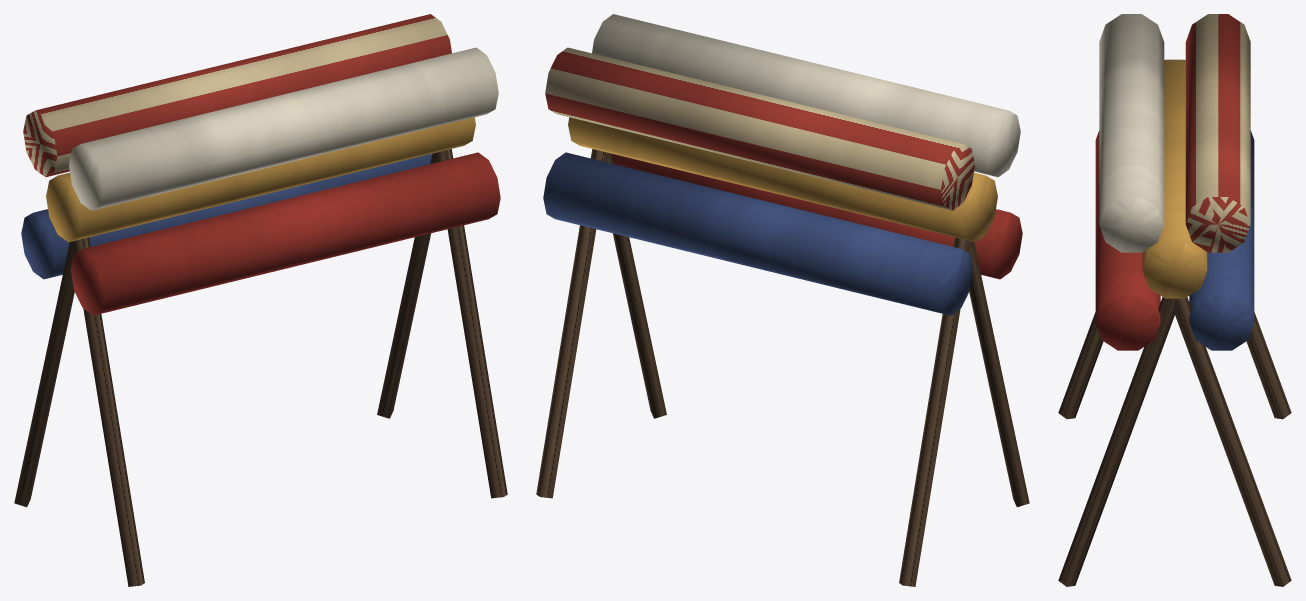
File: Cloth_Rolls_1.gltf
3 renders of one model, left to right at view 1: azimuth 30°, elevation 25°; view 2: azimuth 150°, elevation 25°; view 3: azimuth 270°, elevation 25°, orthographic. The views are drawn at different scales.
Parts seen in each view (by area): view 1: Cloth_Rolls_1; view 2: Cloth_Rolls_1; view 3: Cloth_Rolls_1.
Part boxes in pixels (<box>): Cloth_Rolls_1: <box>14,14,507,586</box>; Cloth_Rolls_1: <box>536,14,1029,586</box>; Cloth_Rolls_1: <box>1058,14,1291,586</box>.
Size of the model in its own units: 1.2 by 1.21 by 0.6474.
Materials: 6 (6 with a texture image).
